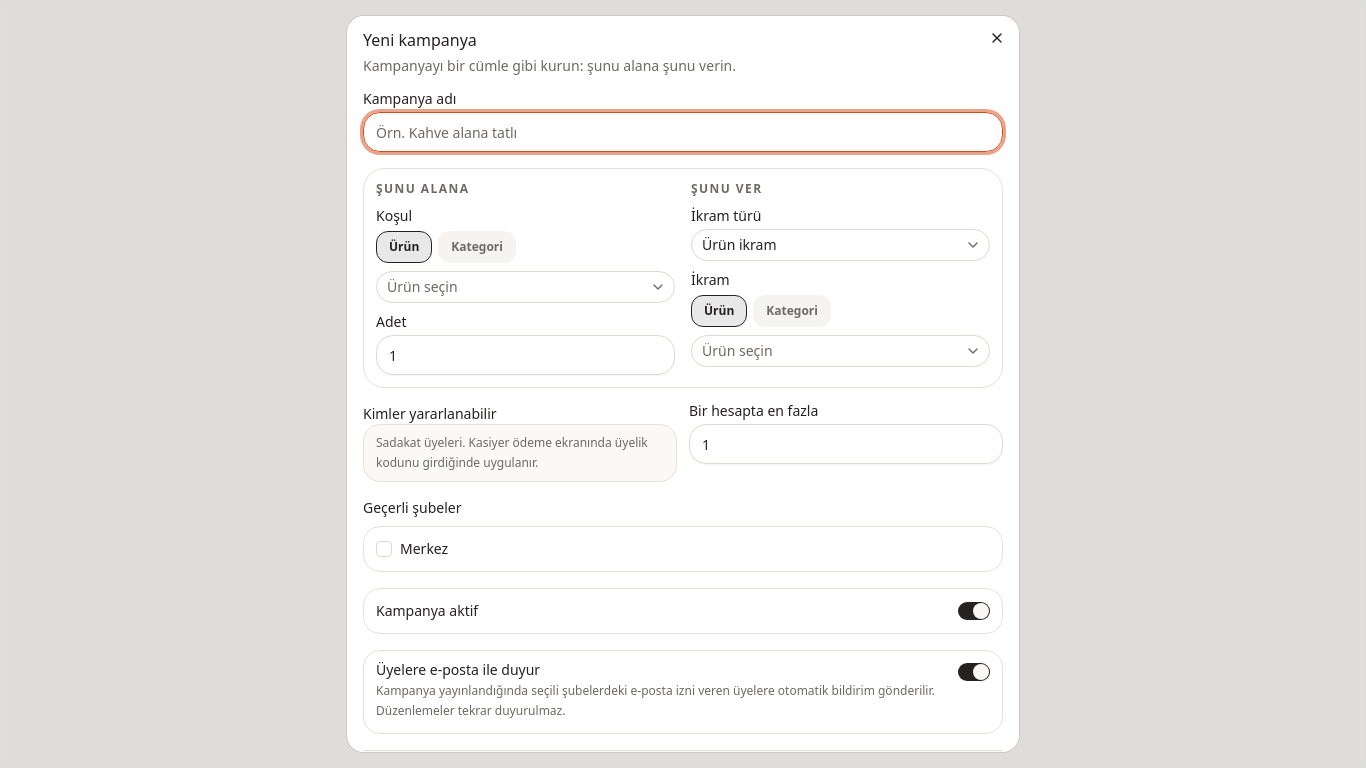
Test: CampaignFormDialog › cannot save an offer that is missing a side of the sentence
The width and height of the screenshot is (1366, 768).
Type "Kahve alana tatlı" into the field labelled "Kampanya adı" at (683, 132), box [363, 112, 1003, 152]
(page scrolled)
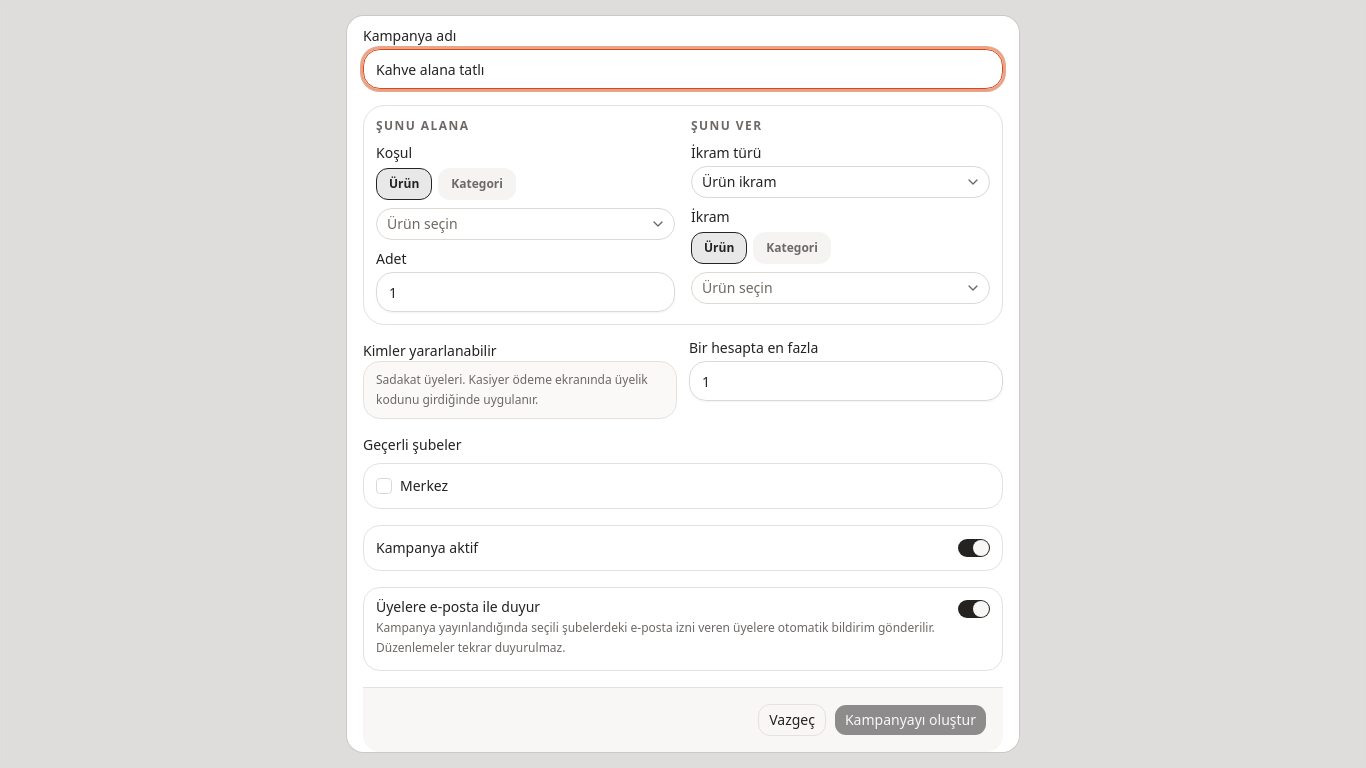
Expected: the button "Kampanyayı oluştur" is disabled, [834, 704, 987, 736]
